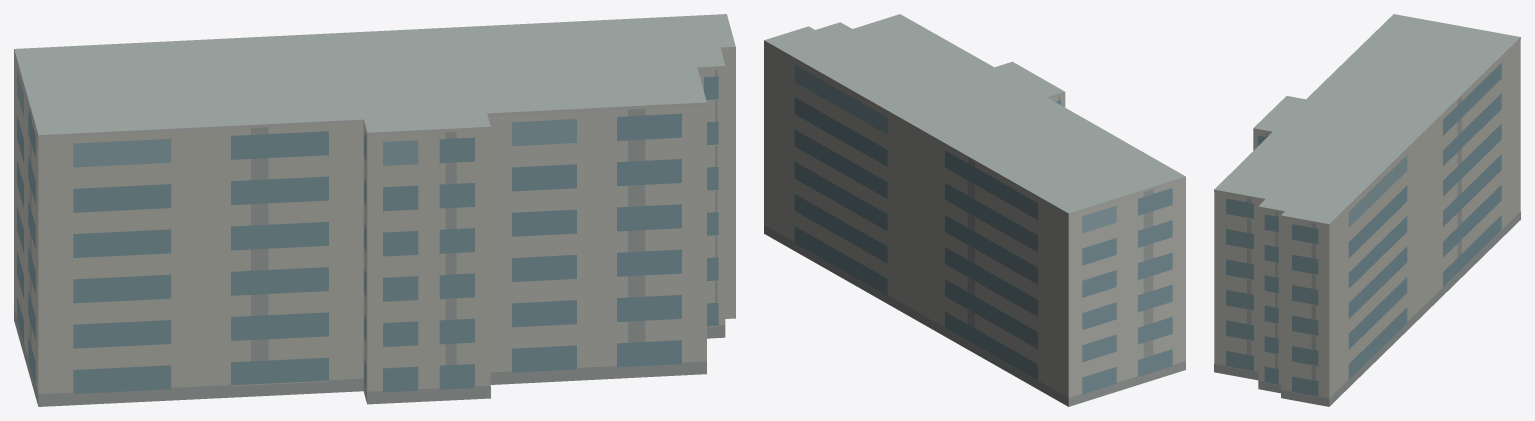
File: survey-upis-32794280.glb
The picture shows the model from 3 angles, left to right: view 1: azimuth 30°, elevation 25°; view 2: azimuth 150°, elevation 25°; view 3: azimuth 270°, elevation 25°; orthographic projection. The views are drawn at different scales.
Visible parts, largest first — view 1: survey-upis-32794280.tmp; view 2: survey-upis-32794280.tmp; view 3: survey-upis-32794280.tmp.
Boxes of the visible parts, x1=… form: survey-upis-32794280.tmp: x1=14, y1=14, x2=735, y2=406; survey-upis-32794280.tmp: x1=764, y1=14, x2=1185, y2=406; survey-upis-32794280.tmp: x1=1214, y1=14, x2=1520, y2=406.
Size of the model in its own units: 51.57 by 20.9 by 31.8.
